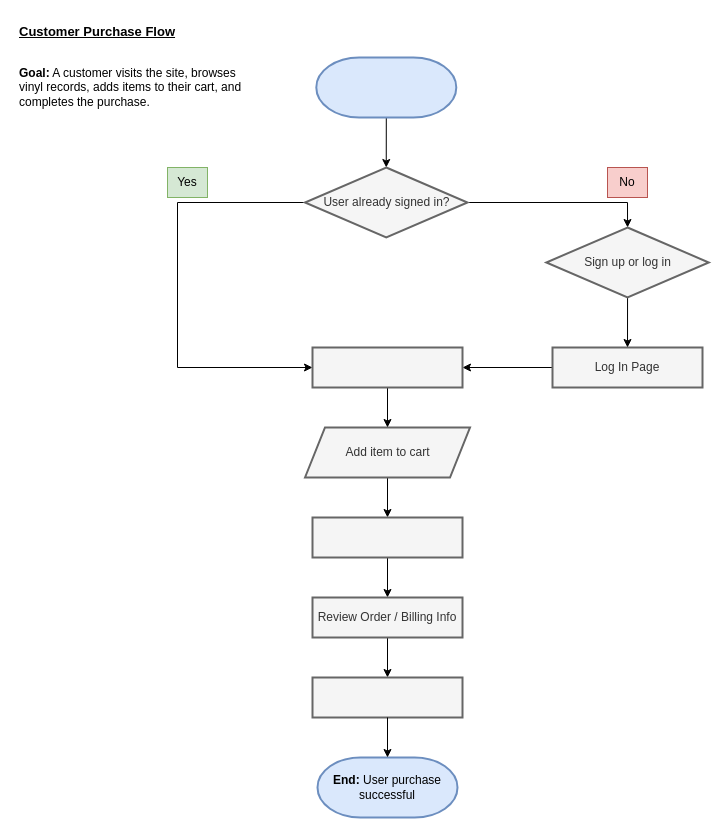
The diagram is 727 pixels wide and 835 high, and some of its shapes have lost their labels. The box of each missing label's shape, as (x1, y1, x2, y2) in pixels:
Browse store: (311, 346, 463, 388)
Checkout: (311, 516, 463, 558)
Payment Confirmation: (311, 676, 463, 718)
Start: User visits site: (315, 56, 457, 118)
